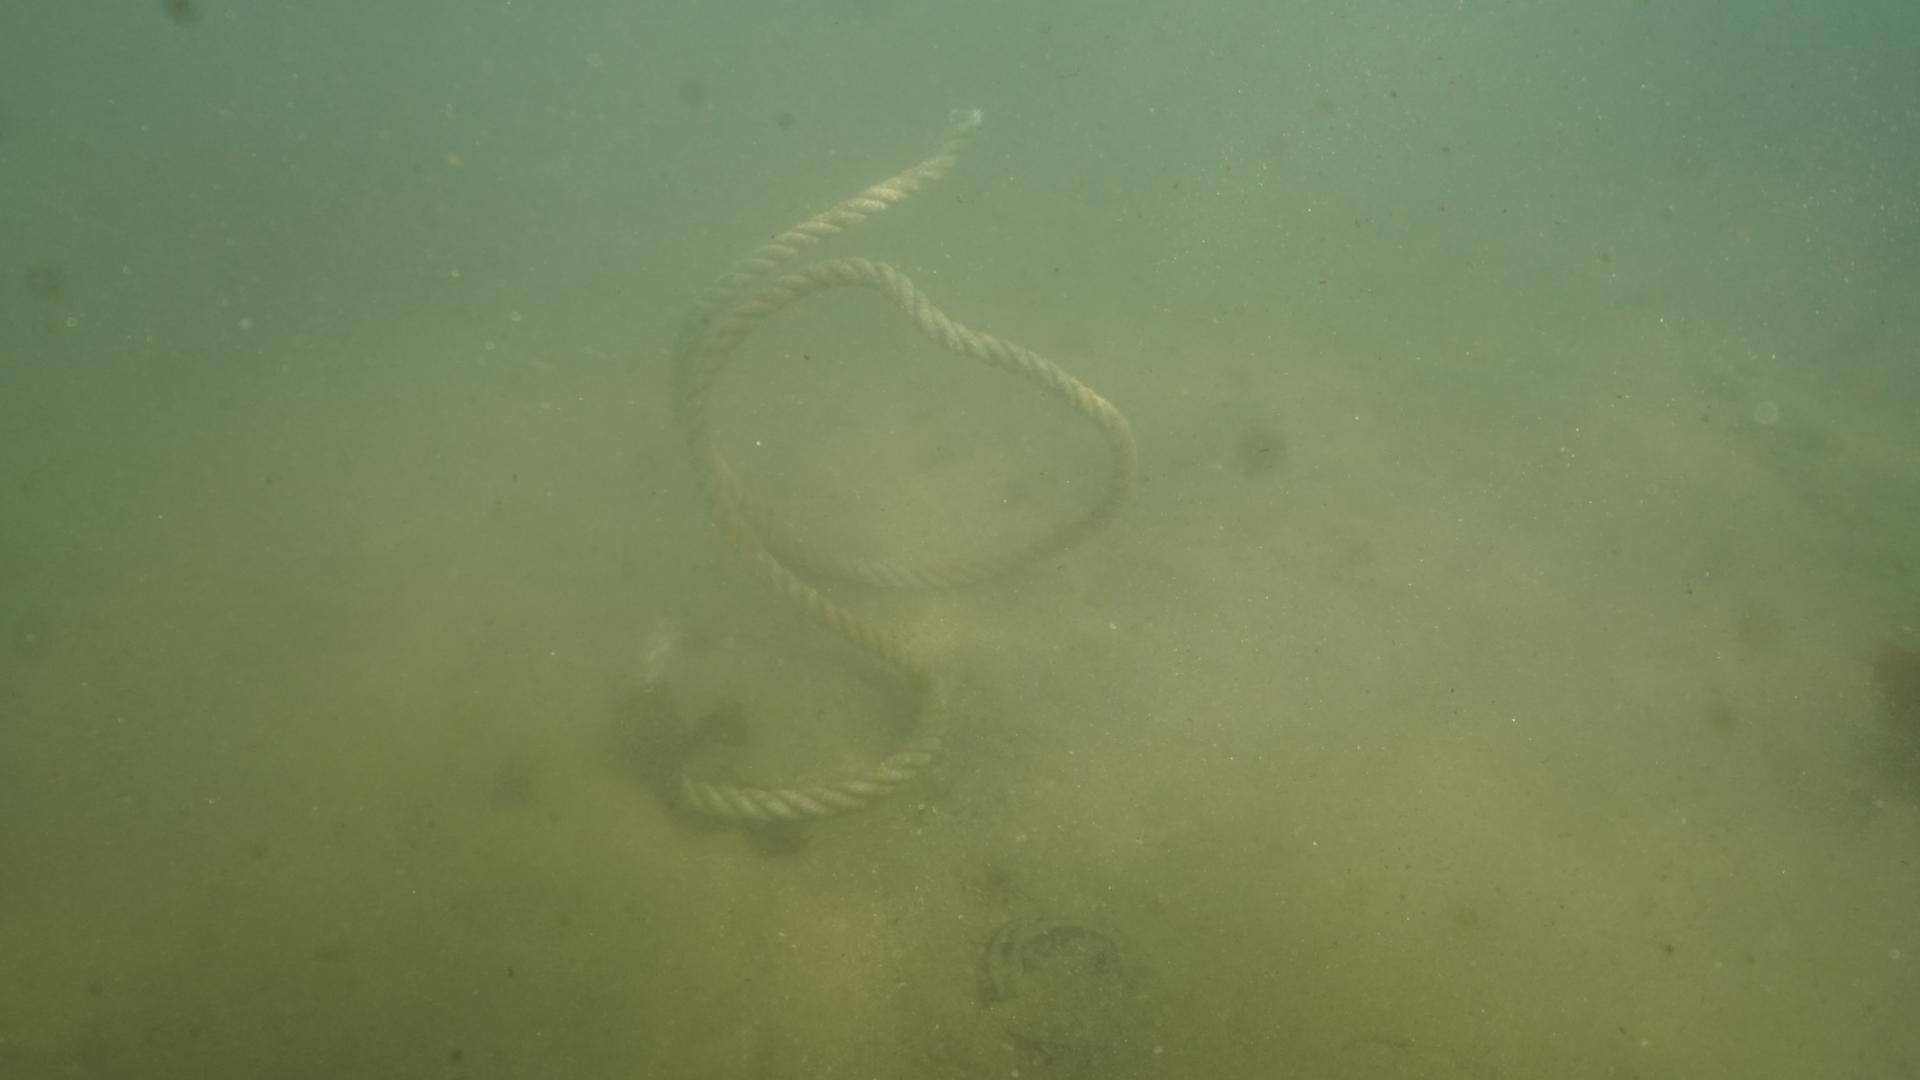bundle of ropes: (616, 124, 1145, 832)
